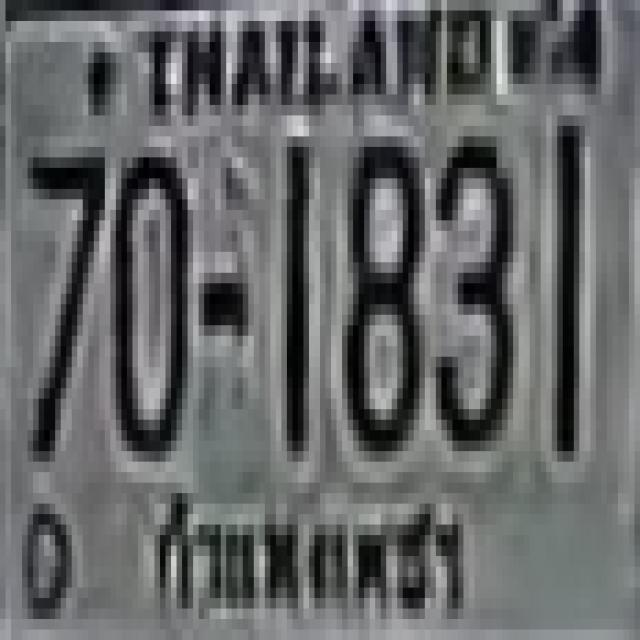0: (110, 147, 188, 451)
1: (549, 116, 577, 451), (552, 116, 579, 451), (279, 136, 306, 452), (282, 131, 304, 446)
3: (430, 126, 508, 441)
7: (25, 147, 102, 451)
8: (342, 126, 419, 441)
KPT: (142, 478, 476, 636)
